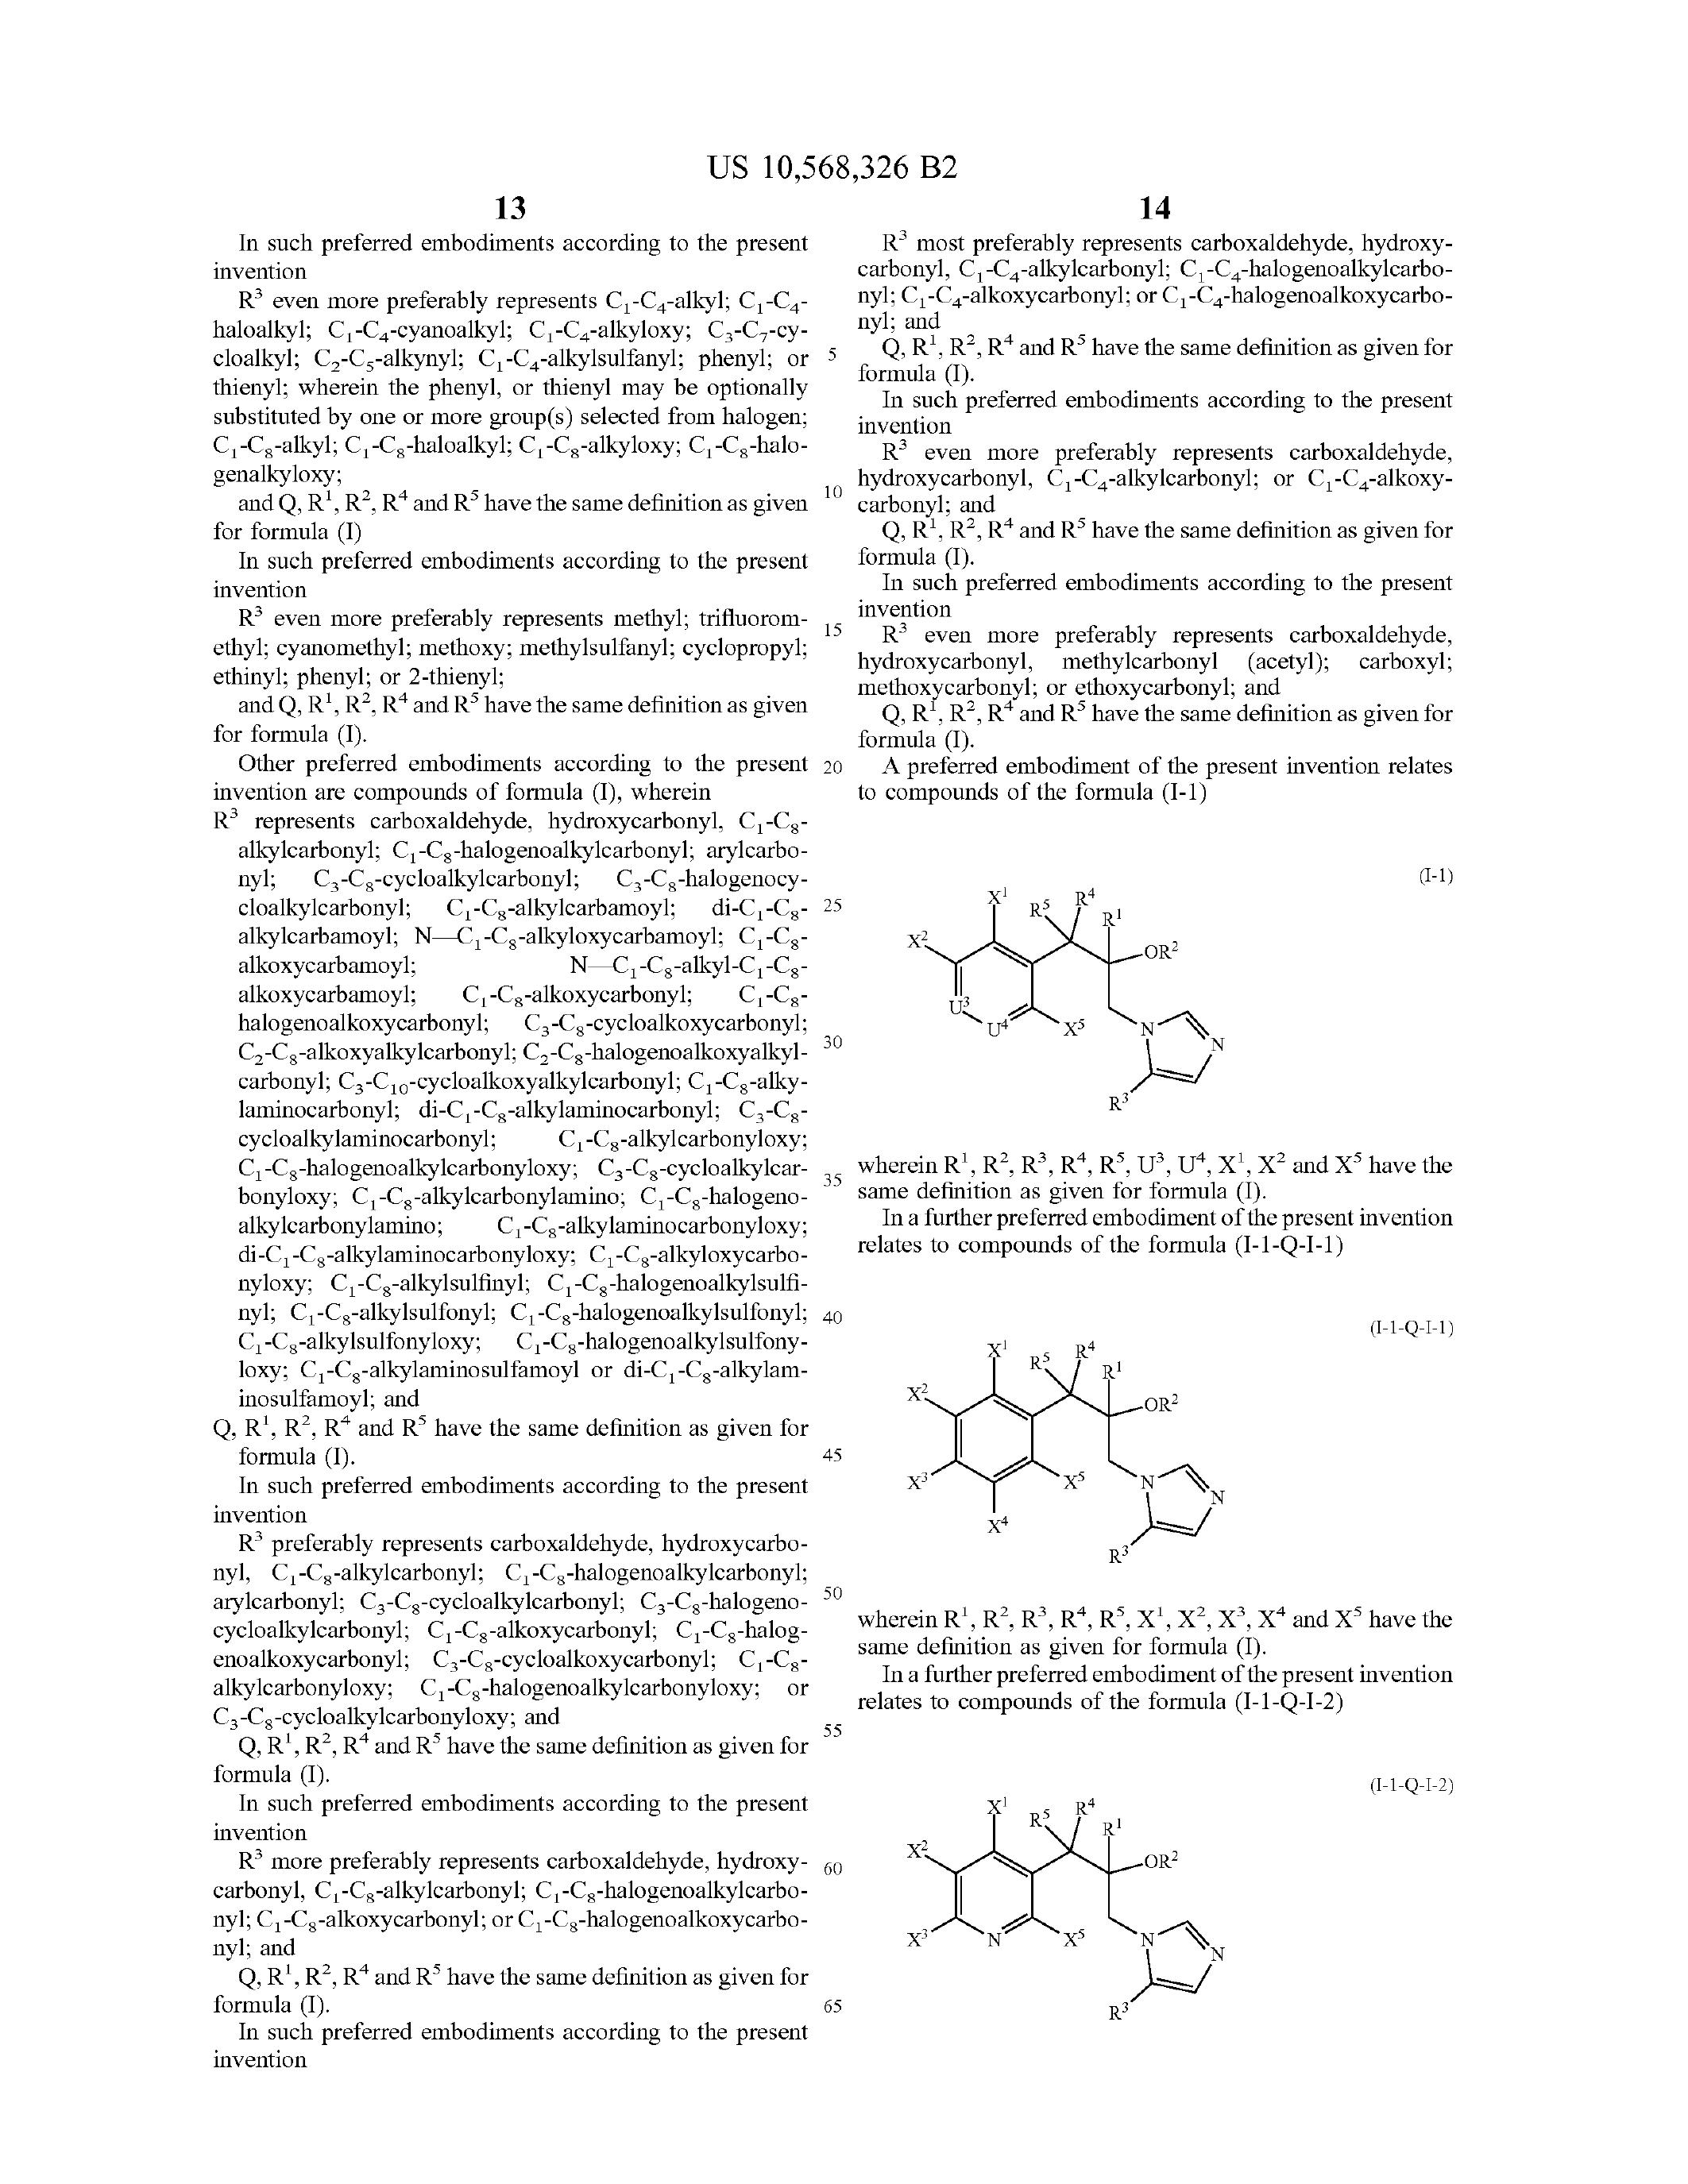markush-structures: (894, 1783, 1271, 2087), (887, 846, 1273, 1133), (888, 1303, 1270, 1562)
